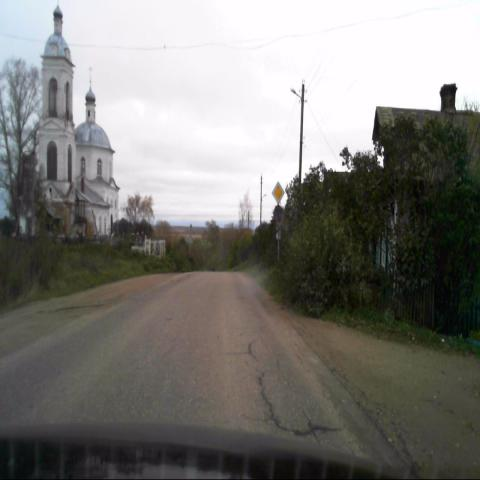2_1: (272, 181, 284, 204)
